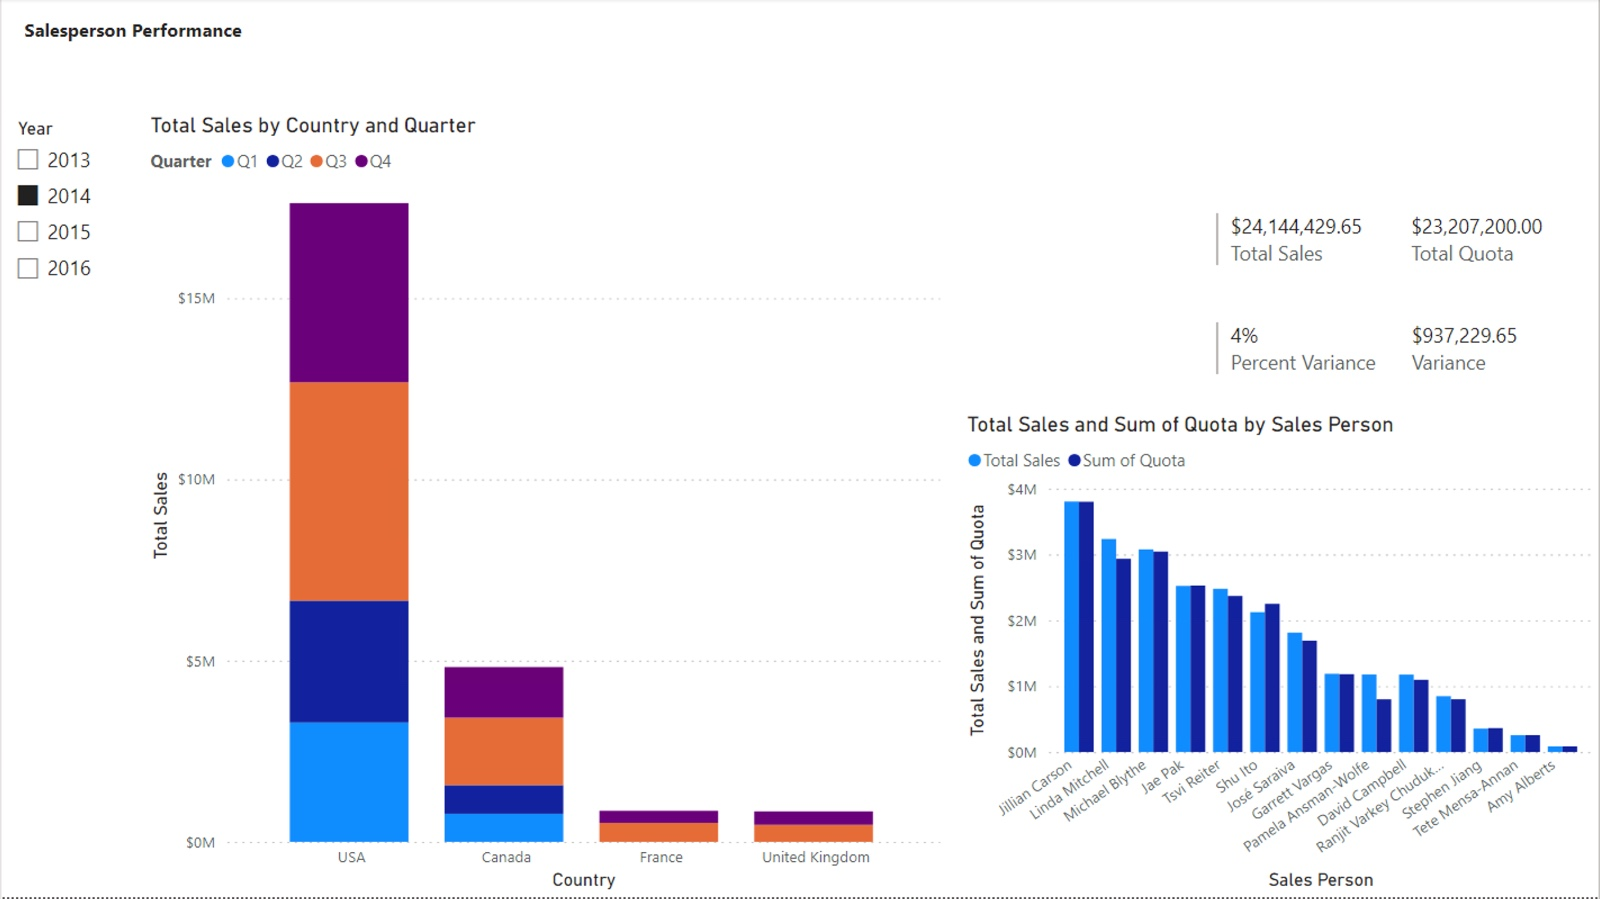

What the dashboard file says about the page in this screenshot:
{"tool":"powerbi","page":{"name":"Salesperson Performance ","canvas":[1280,720],"ordinal":0},"visuals":[{"type":"slicer","fields":{"Values":["Period.Year"]},"box":[0,91.4,145.8,150.5],"z":0},{"type":"columnChart","fields":{"Y":["Sales.Total Sales"],"Category":["Territory.Country"],"Series":["Period.Quarter"]},"box":[114.5,91,642.7,628.3],"z":1000},{"type":"multiRowCard","fields":{"Values":["Sales.Total Sales","Quotas.Total Quota"]},"box":[968.1,166.8,311,75.7],"z":2000},{"type":"multiRowCard","fields":{"Values":["Quotas.Percent Variance","Quotas.Variance"]},"box":[968.1,254.2,311.9,76.6],"z":3000},{"type":"clusteredColumnChart","fields":{"Y":["Sales.Total Sales","Quotas.Quota"],"Category":["Rep.Sales Person"]},"box":[768.9,330.8,511.1,388.5],"z":4000},{"type":"textbox","box":[13.5,9.9,238.9,36.1],"z":5000}]}

Visuals, with their boxes in screenshot pixels (x1, y1, x2, y2), scaled from the page's 1280x720 canvas onto the 1600x899 screenshot:
slicer - Period.Year: (x1=0, y1=114, x2=182, y2=302)
columnChart - Sales.Total Sales x Territory.Country: (x1=143, y1=114, x2=946, y2=898)
multiRowCard - Sales.Total Sales x Quotas.Total Quota: (x1=1210, y1=208, x2=1599, y2=303)
multiRowCard - Quotas.Percent Variance x Quotas.Variance: (x1=1210, y1=317, x2=1599, y2=413)
clusteredColumnChart - Sales.Total Sales x Quotas.Quota: (x1=961, y1=413, x2=1599, y2=898)
textbox: (x1=17, y1=12, x2=316, y2=57)
